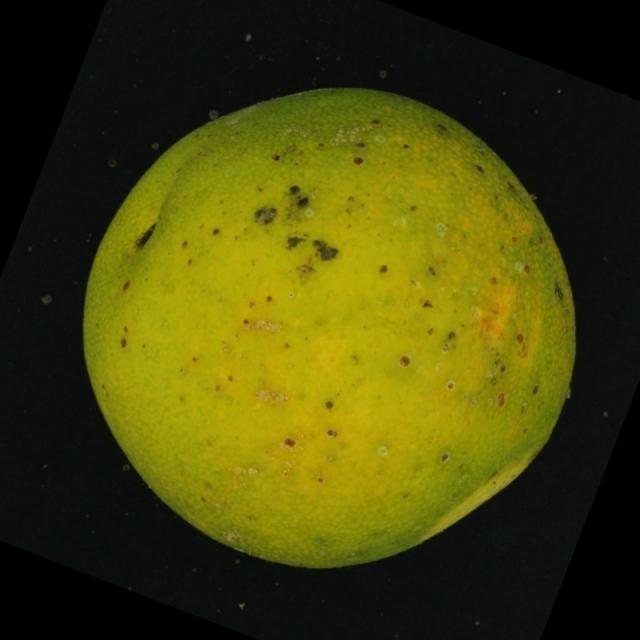grenning: (62, 58, 596, 592)
